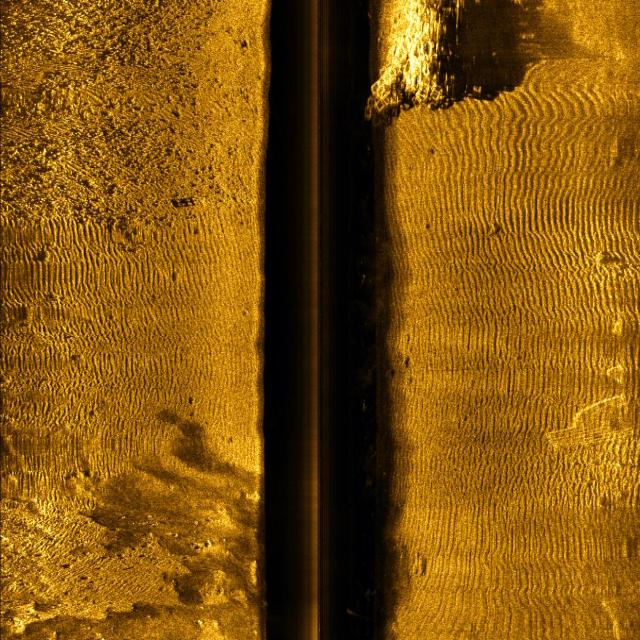artificial reef: (364, 0, 479, 135)
